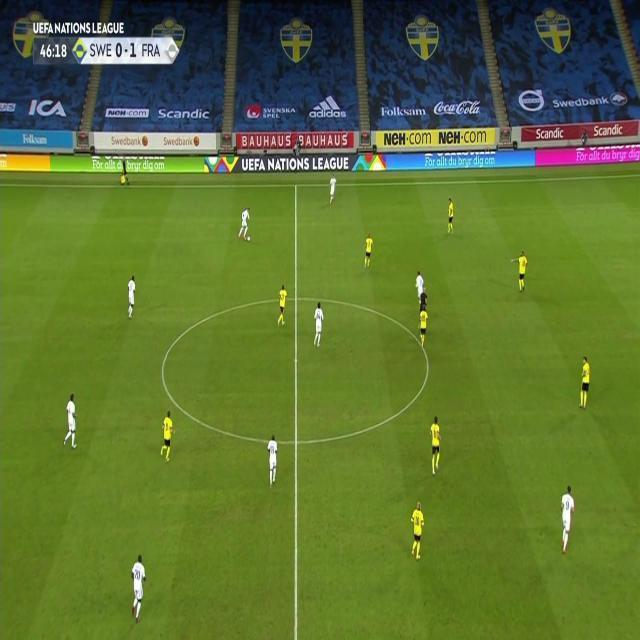ball: (247, 236, 251, 242)
player: (129, 552, 148, 622), (558, 484, 576, 555), (408, 500, 426, 563), (62, 392, 80, 450), (428, 414, 443, 476), (159, 409, 176, 463), (577, 355, 592, 411), (266, 432, 279, 486), (312, 301, 325, 348), (417, 305, 430, 350), (125, 273, 137, 319), (238, 206, 253, 242), (277, 283, 289, 328), (516, 249, 528, 294), (362, 233, 374, 271), (446, 196, 456, 234), (327, 175, 337, 205), (414, 269, 423, 296)
referee: (120, 159, 130, 185), (419, 287, 429, 309)
